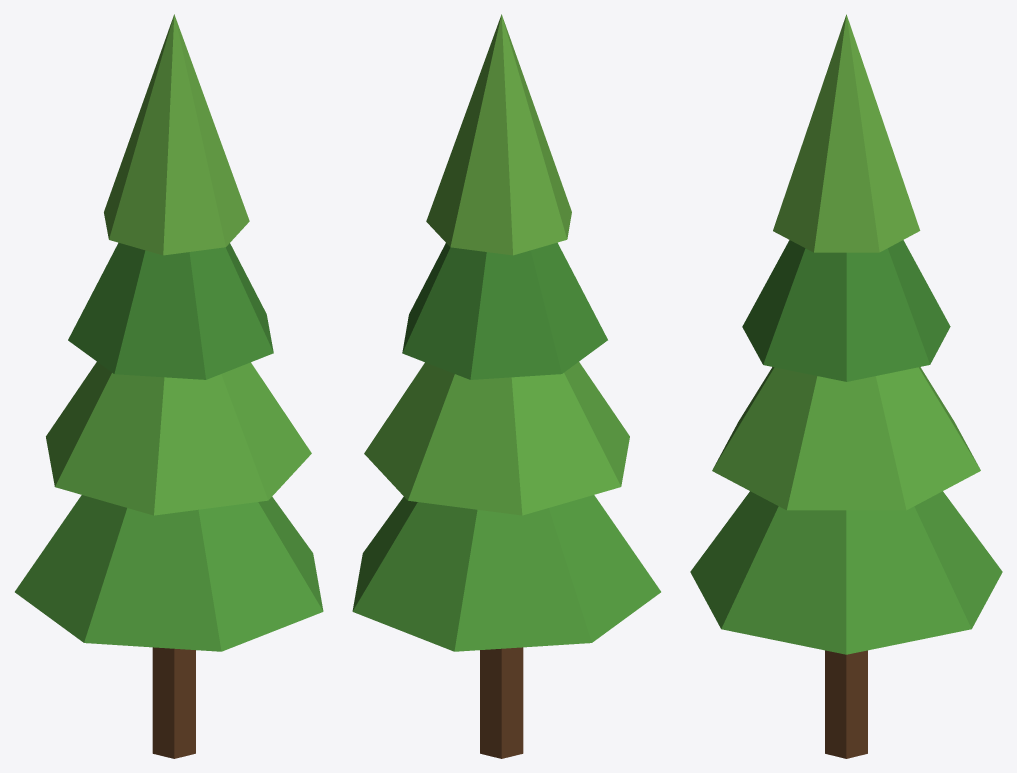
The model's file is SM_PineB_G.obj.
The picture shows the model from 3 angles, left to right: view 1: azimuth 30°, elevation 25°; view 2: azimuth 150°, elevation 25°; view 3: azimuth 270°, elevation 25°; orthographic projection.
Visible parts, largest first — view 1: SM_PineB_G; view 2: SM_PineB_G; view 3: SM_PineB_G.
Boxes of the visible parts, bbox=[...] form: SM_PineB_G: bbox=[15, 14, 323, 758]; SM_PineB_G: bbox=[352, 14, 660, 758]; SM_PineB_G: bbox=[690, 14, 1002, 758].
Size of the model in its own units: 3.42 by 9.1 by 3.51.
Materials: 1 (1 with a texture image).
